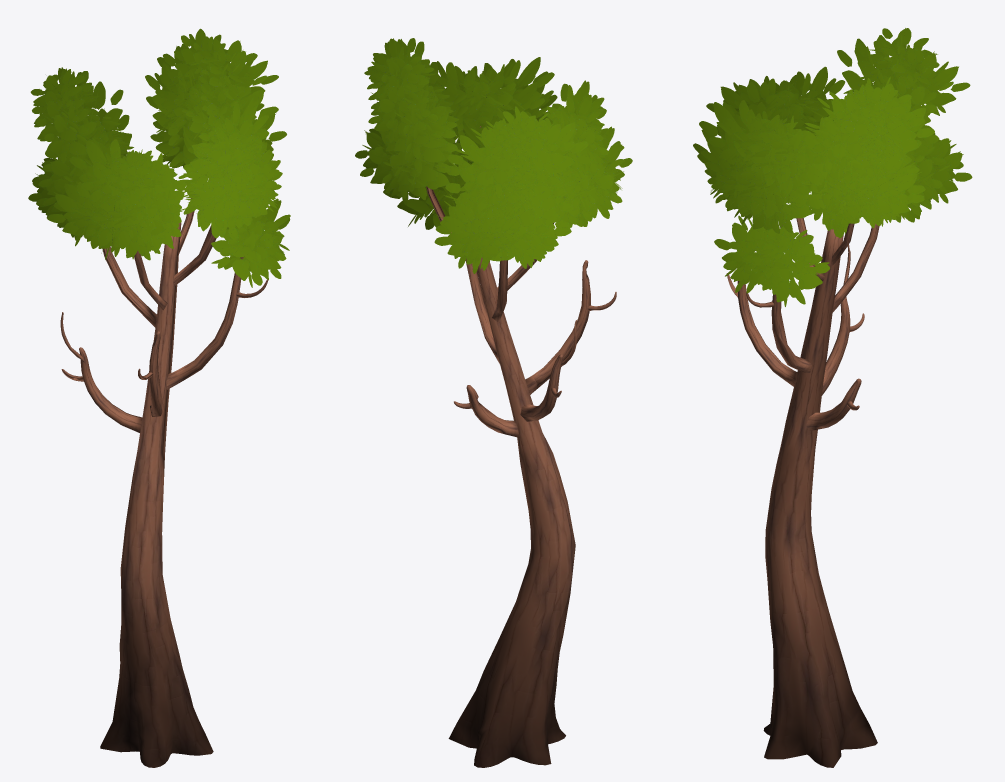
File: CommonTree_4.glb
3 renders of one model, left to right at view 1: azimuth 30°, elevation 25°; view 2: azimuth 150°, elevation 25°; view 3: azimuth 270°, elevation 25°, orthographic. The views are drawn at different scales.
Parts seen in each view (by area): view 1: CommonTree_4; view 2: CommonTree_4; view 3: CommonTree_4.
Part boxes in pixels (x1,y1,x2,y2): CommonTree_4: [28, 28, 290, 767]; CommonTree_4: [355, 38, 632, 767]; CommonTree_4: [693, 28, 972, 767].
Size of the model in its own units: 3.83 by 9.44 by 3.76.
2 materials, 2 textured.
